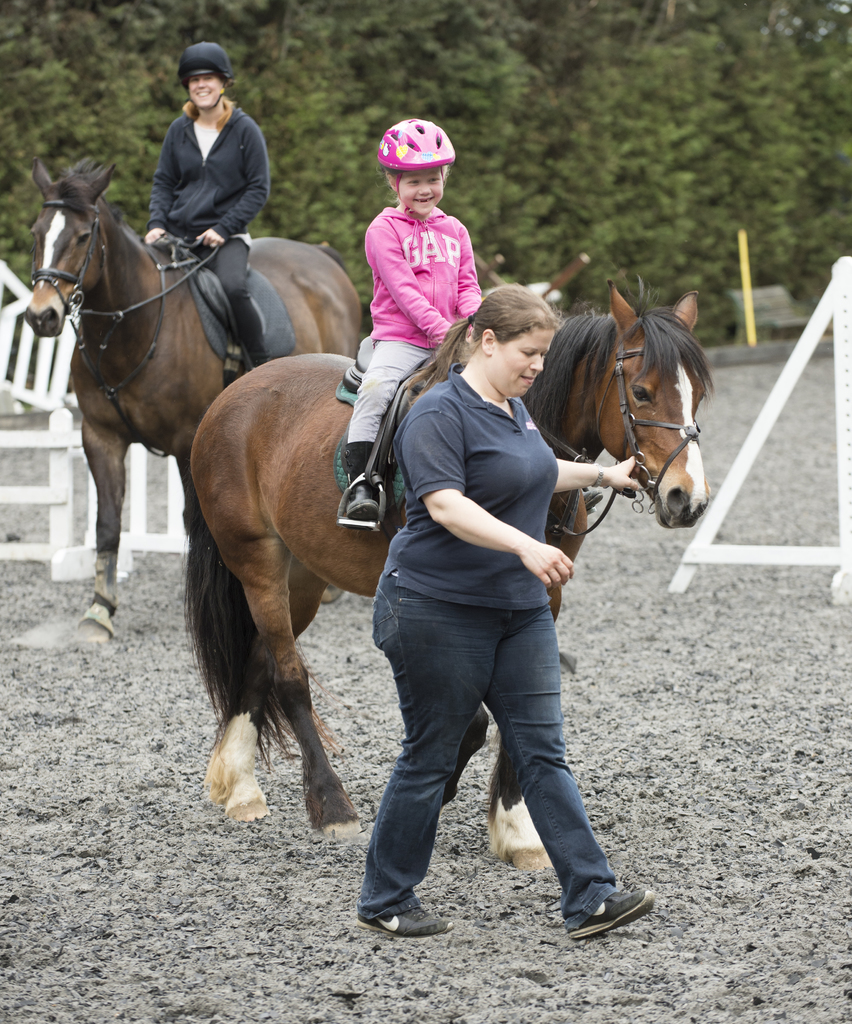Person: (357, 282, 655, 939), (335, 118, 483, 530), (144, 40, 270, 363)
